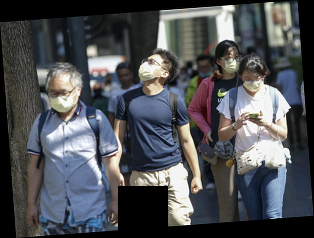mask_weared_incorrect: (198, 61, 212, 79)
with_mask: (47, 84, 79, 113), (138, 57, 165, 82), (242, 71, 265, 93), (220, 50, 241, 73)
without_mask: (117, 69, 132, 87)
